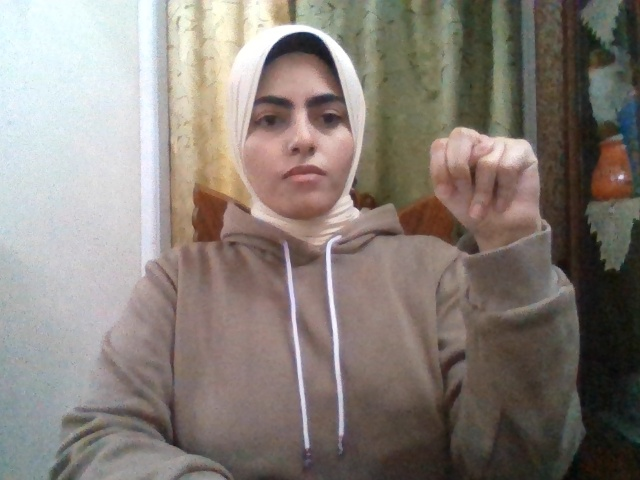N: (431, 125, 541, 234)
